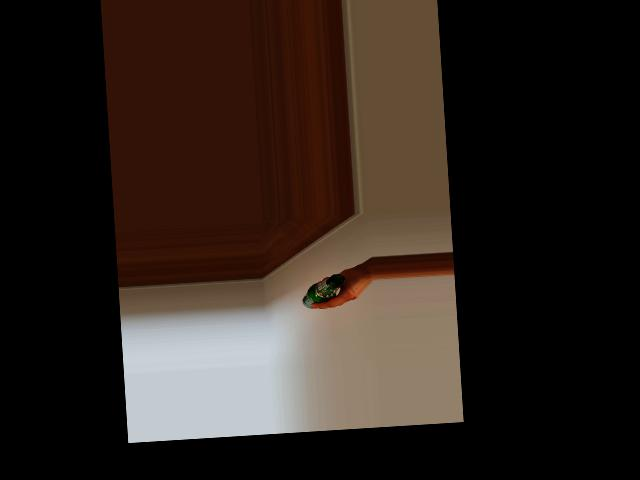beer: (301, 272, 347, 308)
